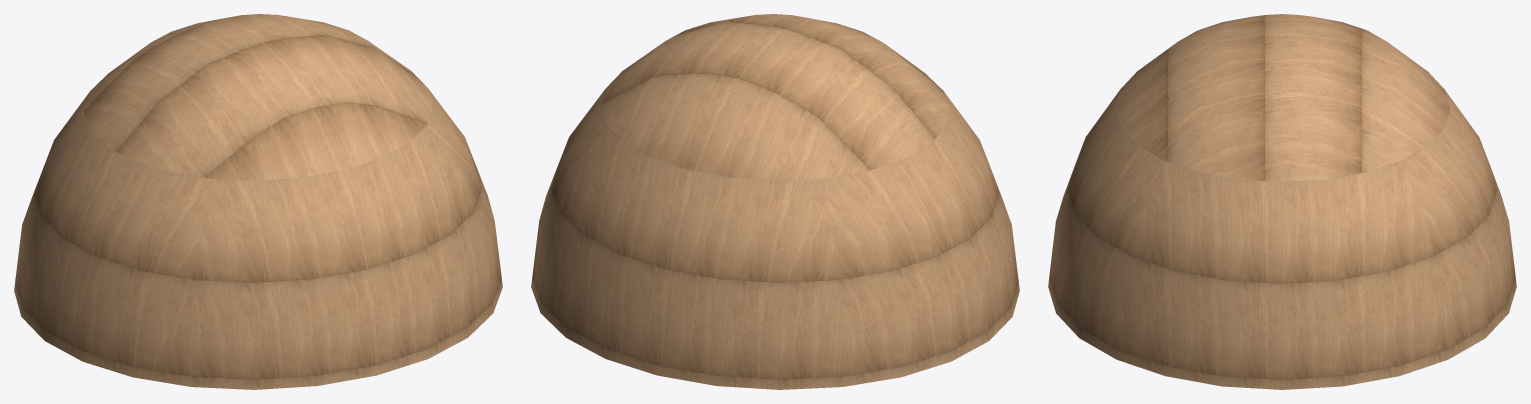
File: hay block.fbx
The picture shows the model from 3 angles, left to right: view 1: azimuth 30°, elevation 25°; view 2: azimuth 150°, elevation 25°; view 3: azimuth 270°, elevation 25°; orthographic projection.
Parts seen in each view (by area): view 1: mergedBlocks; view 2: mergedBlocks; view 3: mergedBlocks.
Boxes of the visible parts, x1,y1,x2,y2 form: mergedBlocks: [14, 14, 502, 389]; mergedBlocks: [531, 14, 1019, 389]; mergedBlocks: [1048, 14, 1516, 389].
Bounding box in the file's own units: 50.4 × 28.73 × 48.36.
1 material, 1 textured.
